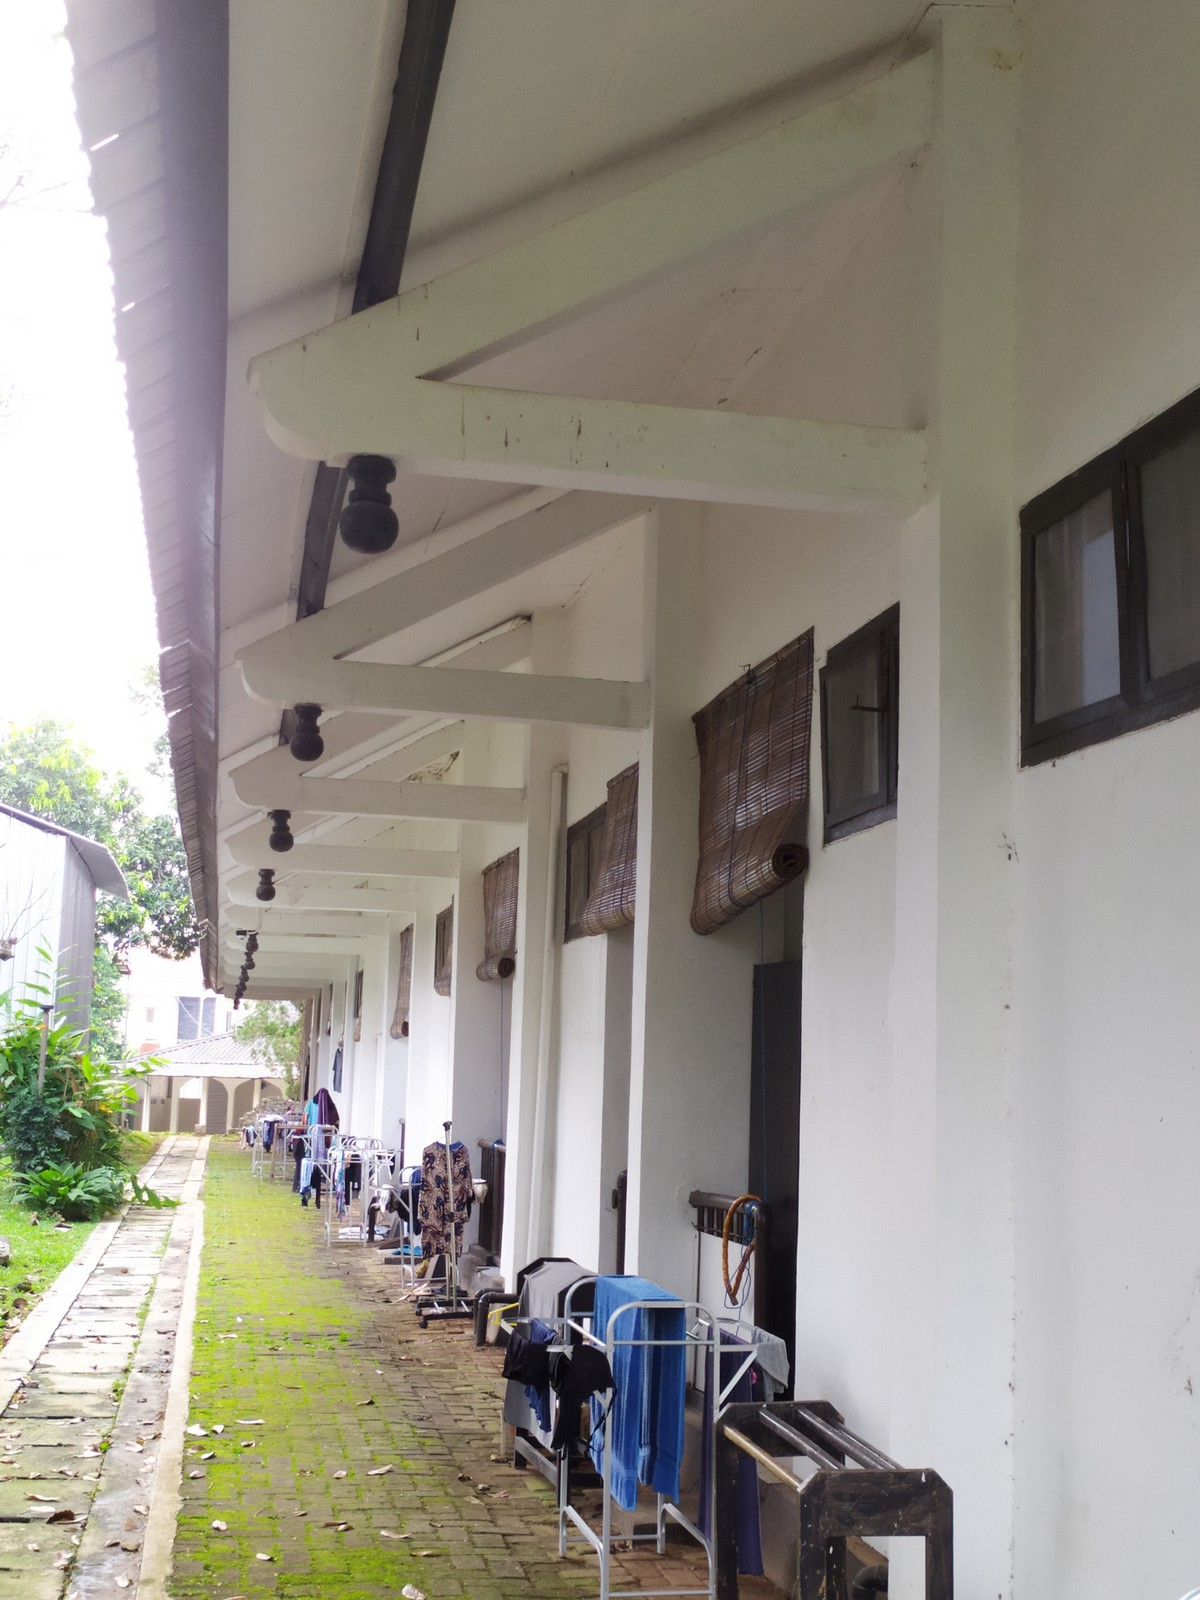concrete beam: (420, 389, 942, 535), (342, 658, 661, 743), (301, 775, 539, 838)
concrete column: (891, 69, 1049, 1591), (623, 491, 766, 1335), (499, 724, 580, 1288), (436, 813, 494, 1251)
